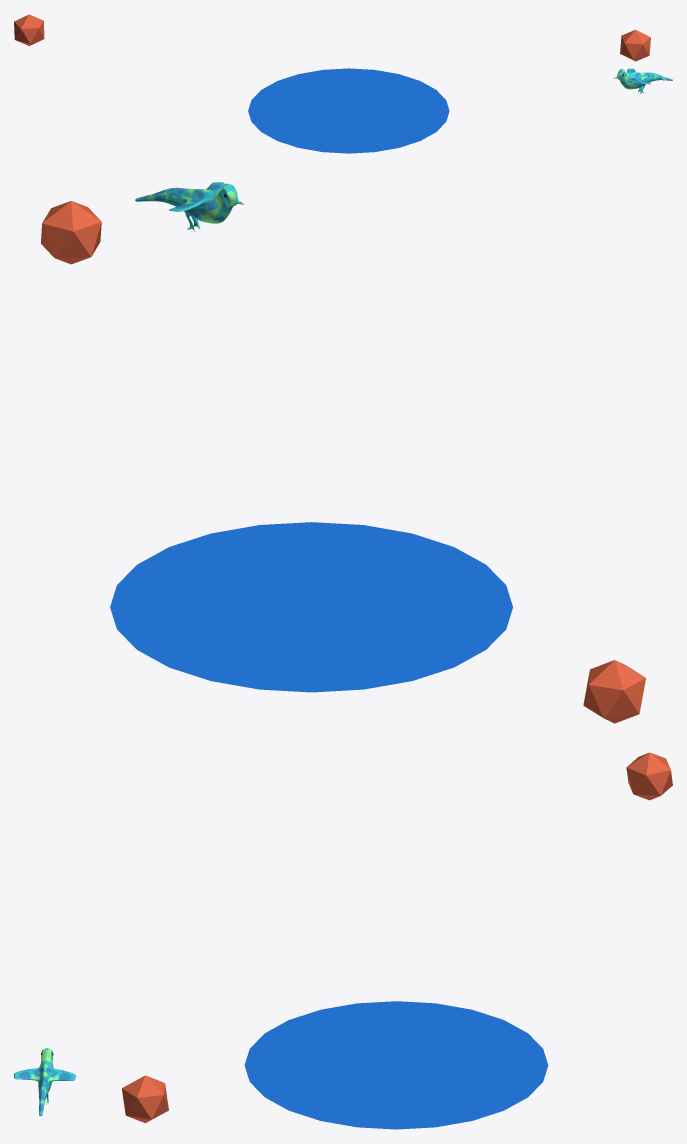
Rendered from park.gltf.
3 views of the same model, one above another, from view 1: azimuth 30°, elevation 25°; view 2: azimuth 150°, elevation 25°; view 3: azimuth 270°, elevation 25° (orthographic). The views are drawn at different scales.
Visible parts, largest first — view 1: PondWater, Leaf3_convex_colider.001, Leaf3_convex_colider, Body.001; view 2: PondWater, Leaf3_convex_colider, Leaf3_convex_colider.001, Body.001; view 3: PondWater, Leaf3_convex_colider, Leaf3_convex_colider.001, Body.001.
Part boxes in pixels (x1,y1,x2,y2): PondWater: (248, 68, 449, 153); Leaf3_convex_colider.001: (14, 14, 44, 45); Leaf3_convex_colider: (620, 30, 650, 61); Body.001: (613, 68, 672, 93); PondWater: (110, 522, 512, 692); Leaf3_convex_colider: (41, 201, 101, 264); Leaf3_convex_colider.001: (583, 660, 645, 723); Body.001: (135, 182, 244, 231); PondWater: (244, 1001, 548, 1129); Leaf3_convex_colider: (122, 1075, 168, 1123); Leaf3_convex_colider.001: (626, 752, 672, 800); Body.001: (14, 1048, 75, 1115).
Size of what is drawn, in the model's own units: 4.46 by 0.8489 by 3.63.
Materials: 5 (1 with a texture image).
